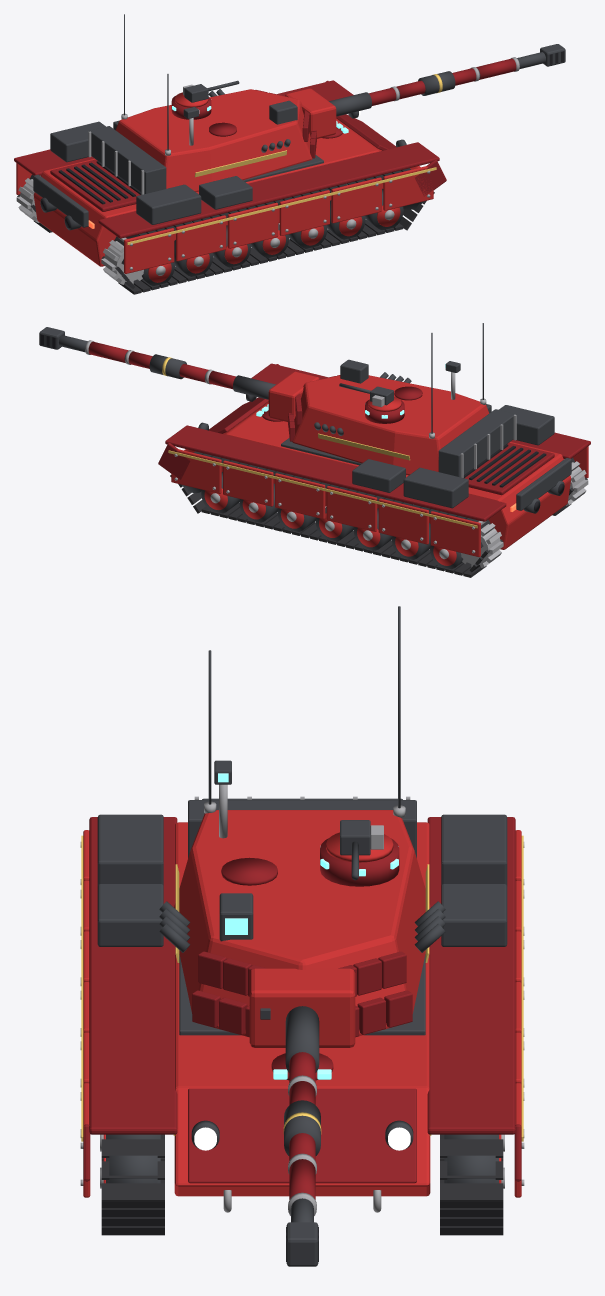
File: tank-mk2.glb
The picture shows the model from 3 angles, top to bottom: view 1: azimuth 30°, elevation 25°; view 2: azimuth 150°, elevation 25°; view 3: azimuth 270°, elevation 25°; orthographic projection. The views are drawn at different scales.
Visible parts, largest first — view 1: MK2_Turret, MK2_Fender_R, MK2_Hull, MK2_TrackBelt_R, MK2_Bustle, MK2_Stowage_R0, MK2_EngineDeck, MK2_Skirt_R2, MK2_Skirt_R4, MK2_Skirt_R0, MK2_Skirt_R3, MK2_Skirt_R1 (+18 smaller); view 2: MK2_Turret, MK2_Fender_L, MK2_Hull, MK2_TrackBelt_L, MK2_Bustle, MK2_Stowage_L0, MK2_EngineDeck, MK2_Skirt_L2, MK2_Skirt_L0, MK2_Skirt_L4, MK2_Skirt_L1, MK2_Skirt_L3 (+20 smaller); view 3: MK2_Turret, MK2_Fender_L, MK2_Fender_R, MK2_Hull, MK2_Hull_Glacis_Plate, MK2_Mantlet, MK2_TrackBelt_L, MK2_TrackBelt_R, MK2_Stowage_L0, MK2_Stowage_R0, MK2_Stowage_L1, MK2_Stowage_R1 (+18 smaller).
Part boxes in pixels (x1,y1,x2,y2): MK2_Turret: (115, 89, 312, 191); MK2_Fender_R: (98, 142, 439, 238); MK2_Hull: (33, 118, 420, 266); MK2_TrackBelt_R: (101, 168, 434, 294); MK2_Bustle: (89, 126, 166, 194); MK2_Stowage_R0: (136, 184, 201, 224); MK2_EngineDeck: (50, 159, 140, 211); MK2_Skirt_R2: (227, 202, 278, 248); MK2_Skirt_R4: (331, 177, 381, 223); MK2_Skirt_R0: (124, 228, 174, 273); MK2_Skirt_R3: (279, 190, 329, 235); MK2_Skirt_R1: (176, 215, 226, 261); MK2_Turret: (292, 375, 489, 475); MK2_Fender_L: (165, 425, 506, 521); MK2_Hull: (184, 402, 571, 549); MK2_TrackBelt_L: (170, 451, 502, 577); MK2_Bustle: (438, 409, 515, 477); MK2_Stowage_L0: (403, 467, 468, 508); MK2_EngineDeck: (465, 442, 554, 495); MK2_Skirt_L2: (326, 486, 377, 531); MK2_Skirt_L0: (430, 511, 480, 557); MK2_Skirt_L4: (223, 460, 273, 506); MK2_Skirt_L1: (378, 498, 428, 544); MK2_Skirt_L3: (275, 473, 325, 519); MK2_Turret: (174, 810, 430, 1036); MK2_Fender_L: (427, 817, 515, 1134); MK2_Fender_R: (89, 817, 177, 1134); MK2_Hull: (174, 822, 430, 1196); MK2_Hull_Glacis_Plate: (188, 1088, 416, 1183); MK2_Mantlet: (249, 968, 355, 1047); MK2_TrackBelt_L: (440, 1134, 503, 1235); MK2_TrackBelt_R: (101, 1134, 164, 1235); MK2_Stowage_L0: (441, 814, 507, 885); MK2_Stowage_R0: (97, 814, 163, 885); MK2_Stowage_L1: (441, 884, 507, 946); MK2_Stowage_R1: (97, 884, 163, 946).
Bounding box in the file's own units: 14.05 × 5.33 × 5.04.
